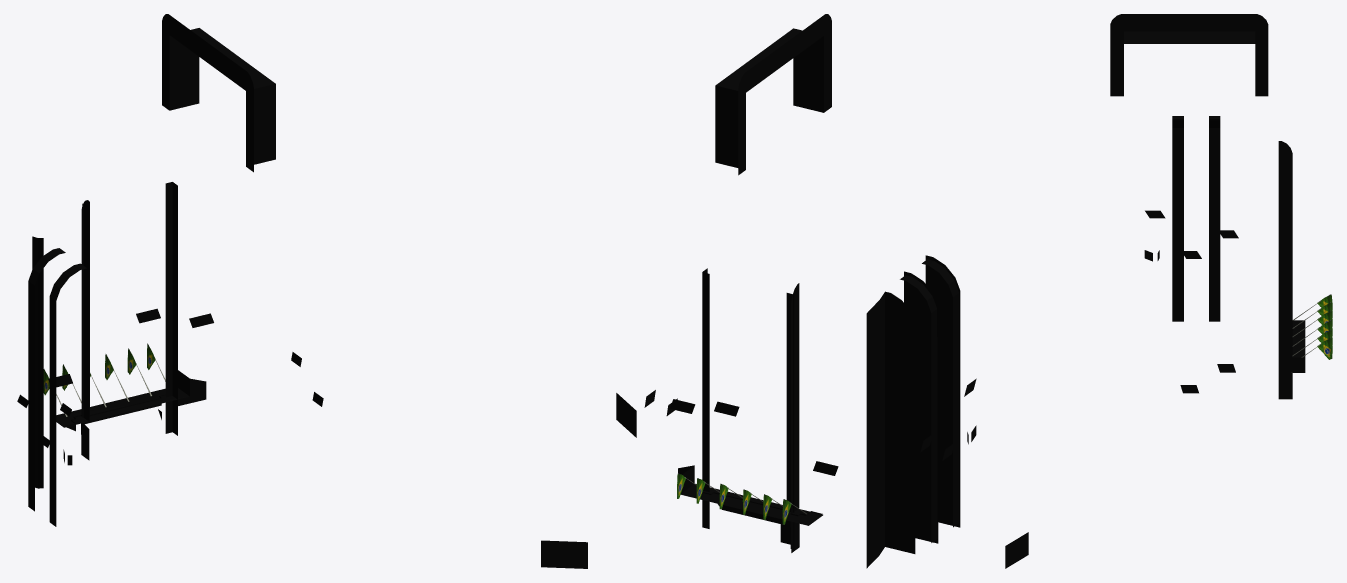
The model's file is sunset18tr_lawn.obj.
3 views of the same model, side by side, from view 1: azimuth 30°, elevation 25°; view 2: azimuth 150°, elevation 25°; view 3: azimuth 270°, elevation 25° (orthographic). The views are drawn at different scales.
Visible parts, largest first — view 1: sunset18Tr_LAwN; view 2: sunset18Tr_LAwN; view 3: sunset18Tr_LAwN.
Part boxes in pixels (x1,y1,x2,y2): sunset18Tr_LAwN: [17, 14, 587, 568]; sunset18Tr_LAwN: [616, 14, 976, 568]; sunset18Tr_LAwN: [1005, 14, 1332, 568].
Bounding box in the file's own units: 76.17 × 85.89 × 57.8.
